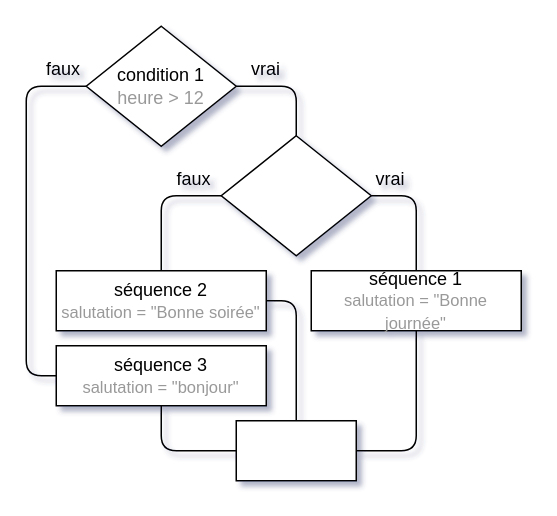
The diagram is 557 pixels wide and 516 high, and some of its shapes have lost their labels. Each missing label, with the box of its shape:
AFFICHER salutation: (235, 419, 356, 481)
condition 2 heure < 19: (220, 134, 371, 256)
